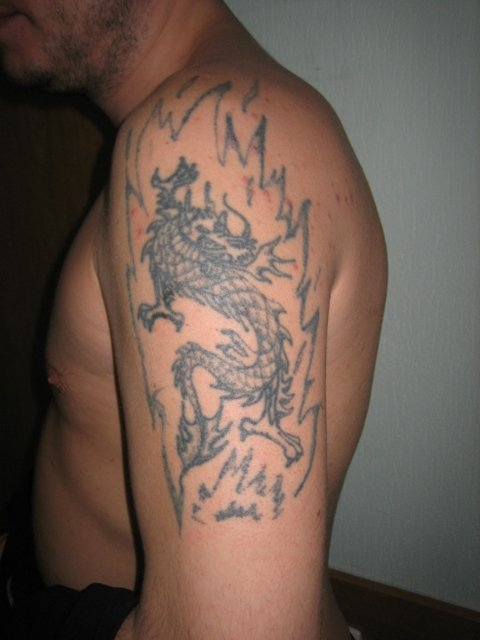tatu6_drakon: (106, 72, 342, 548)
